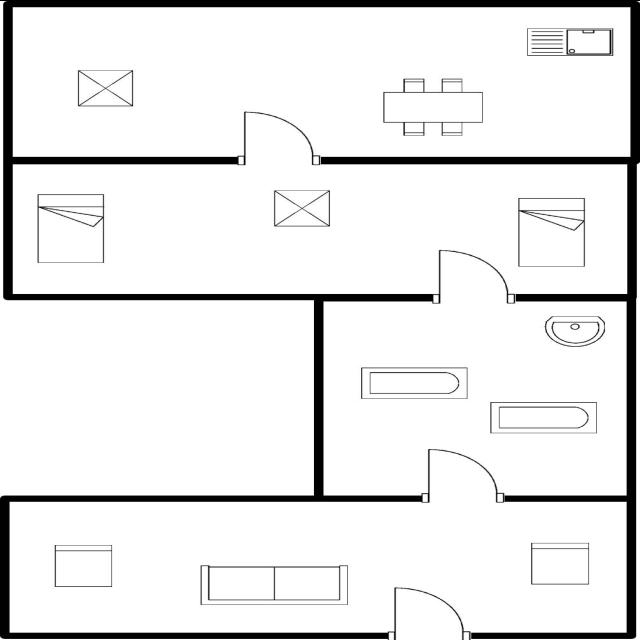bed: (30, 192, 110, 266), (516, 194, 588, 268)
coffee_table: (72, 66, 140, 108), (268, 186, 334, 228)
dining_table: (380, 76, 488, 140)
large_sofa: (197, 560, 353, 608)
sink: (522, 26, 618, 58)
small_sink: (539, 312, 609, 351)
small_sofa: (526, 538, 594, 587), (50, 542, 116, 590)
tub: (484, 398, 604, 436), (357, 364, 472, 402)
